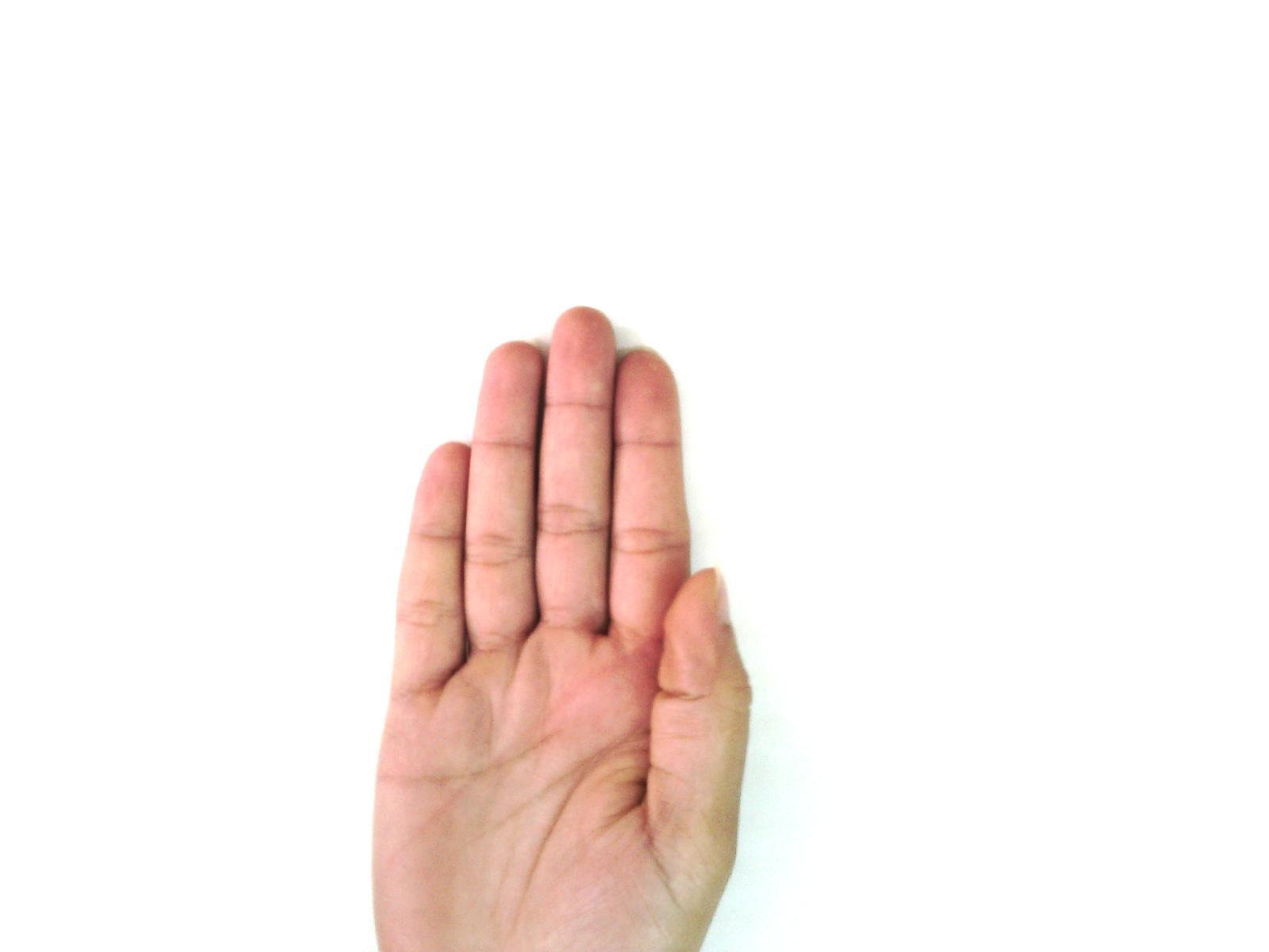open_palm: (368, 305, 756, 951)
